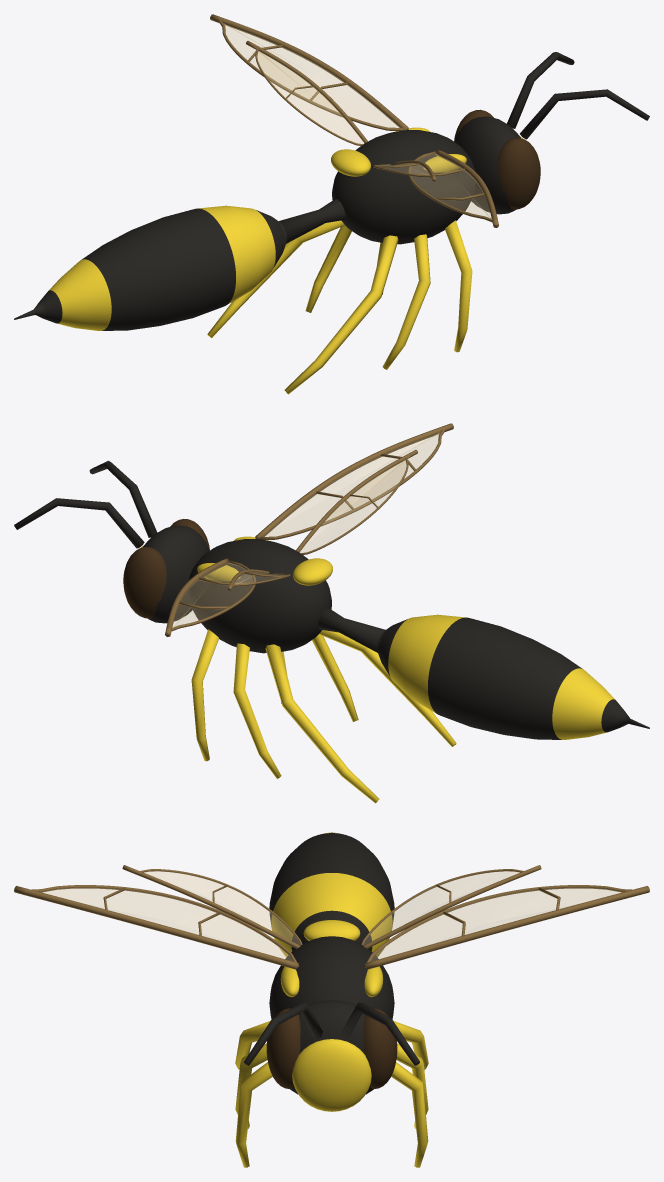
The model's file is wasp.glb.
The picture shows the model from 3 angles, top to bottom: view 1: azimuth 30°, elevation 25°; view 2: azimuth 150°, elevation 25°; view 3: azimuth 270°, elevation 25°; orthographic projection. The views are drawn at different scales.
Visible parts, largest first — view 1: Abdomen, Thorax, fore_wing membrane.001, Head, hind_wing membrane.001, fore_wing membrane, Compound eye, Leg.002, Leg.001, fore_wing leading vein.001, Leg, Leg.005 (+8 smaller); view 2: Abdomen, Thorax, fore_wing membrane, Head, hind_wing membrane, fore_wing membrane.001, Compound eye.001, Leg.005, Leg.004, fore_wing leading vein, Leg.003, Leg.002 (+8 smaller); view 3: Abdomen, Thorax, fore_wing membrane, fore_wing membrane.001, Face, hind_wing membrane, hind_wing membrane.001, fore_wing leading vein, fore_wing leading vein.001, Head, Compound eye, Compound eye.001 (+15 smaller).
Boxes of the visible parts, <box> form: Abdomen: <box>33,205,286,330</box>; Thorax: <box>332,130,475,244</box>; fore_wing membrane.001: <box>223,23,400,127</box>; Head: <box>454,116,520,214</box>; hind_wing membrane.001: <box>257,50,364,143</box>; fore_wing membrane: <box>411,153,491,218</box>; Compound eye: <box>497,138,540,209</box>; Leg.002: <box>284,235,398,394</box>; Leg.001: <box>382,234,430,369</box>; fore_wing leading vein.001: <box>210,14,408,129</box>; Leg: <box>445,220,472,352</box>; Leg.005: <box>207,220,344,337</box>; Abdomen: <box>376,614,629,739</box>; Thorax: <box>188,539,331,653</box>; fore_wing membrane: <box>263,432,440,536</box>; Head: <box>143,525,209,623</box>; hind_wing membrane: <box>299,459,406,552</box>; fore_wing membrane.001: <box>172,562,252,627</box>; Compound eye.001: <box>123,547,166,618</box>; Leg.005: <box>265,644,379,803</box>; Leg.004: <box>233,643,281,778</box>; fore_wing leading vein: <box>255,423,453,538</box>; Leg.003: <box>191,629,218,761</box>; Leg.002: <box>319,630,456,746</box>; Abdomen: <box>269,832,394,957</box>; Thorax: <box>269,936,394,1019</box>; fore_wing membrane: <box>41,888,292,961</box>; fore_wing membrane.001: <box>371,888,622,961</box>; Face: <box>292,1039,371,1111</box>; hind_wing membrane: <box>144,871,300,945</box>; hind_wing membrane.001: <box>363,871,519,945</box>; fore_wing leading vein: <box>14,886,298,969</box>; fore_wing leading vein.001: <box>365,886,649,969</box>; Head: <box>290,1000,373,1094</box>; Compound eye: <box>266,1008,300,1088</box>; Compound eye.001: <box>363,1008,397,1088</box>.
Bounding box in the file's own units: 2.7 × 1.01 × 2.23.
